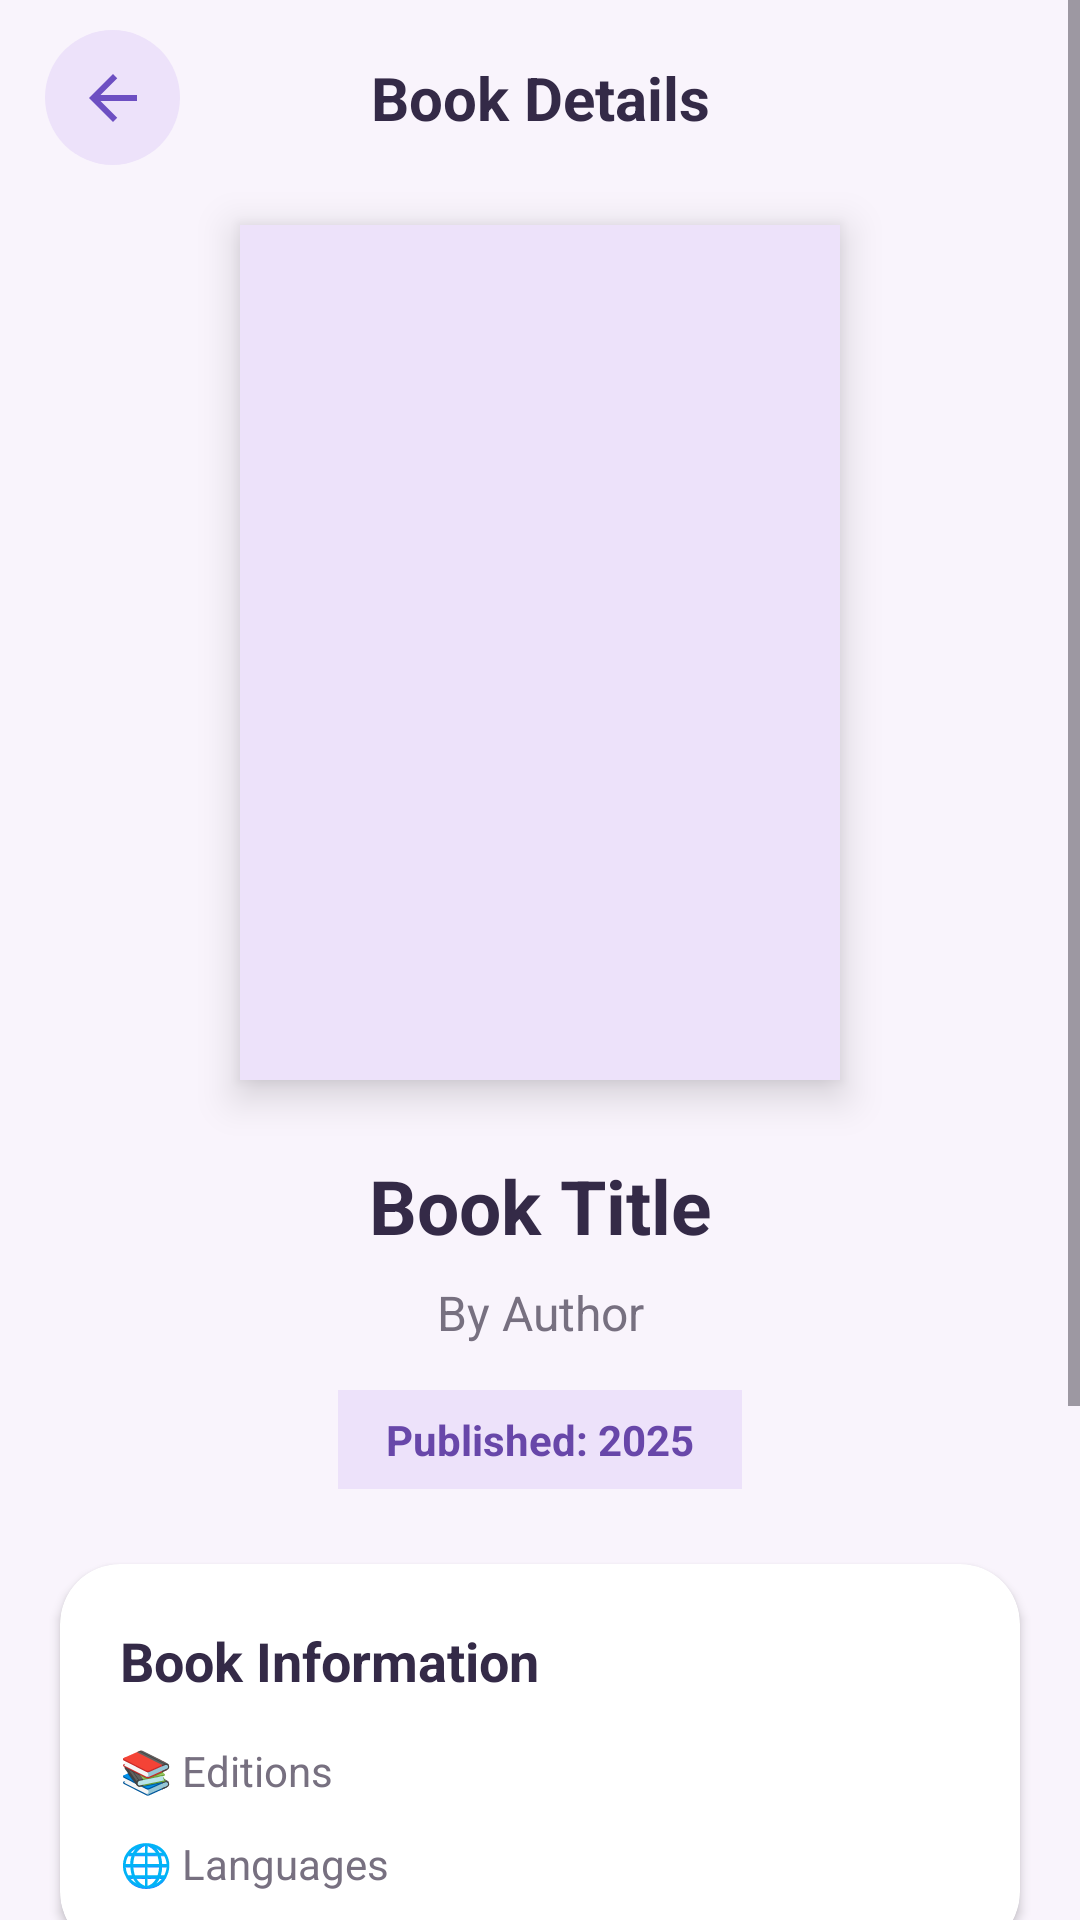

Point at icon controls on the screen. Image size 1080px×1920px, points as [x,y].
Back: [112,97]
